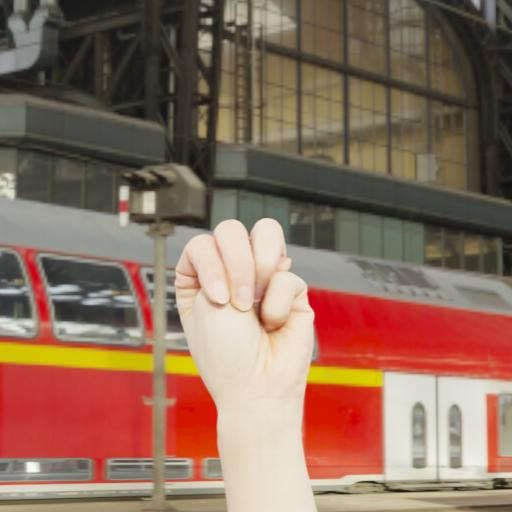M: (164, 211, 320, 415)
